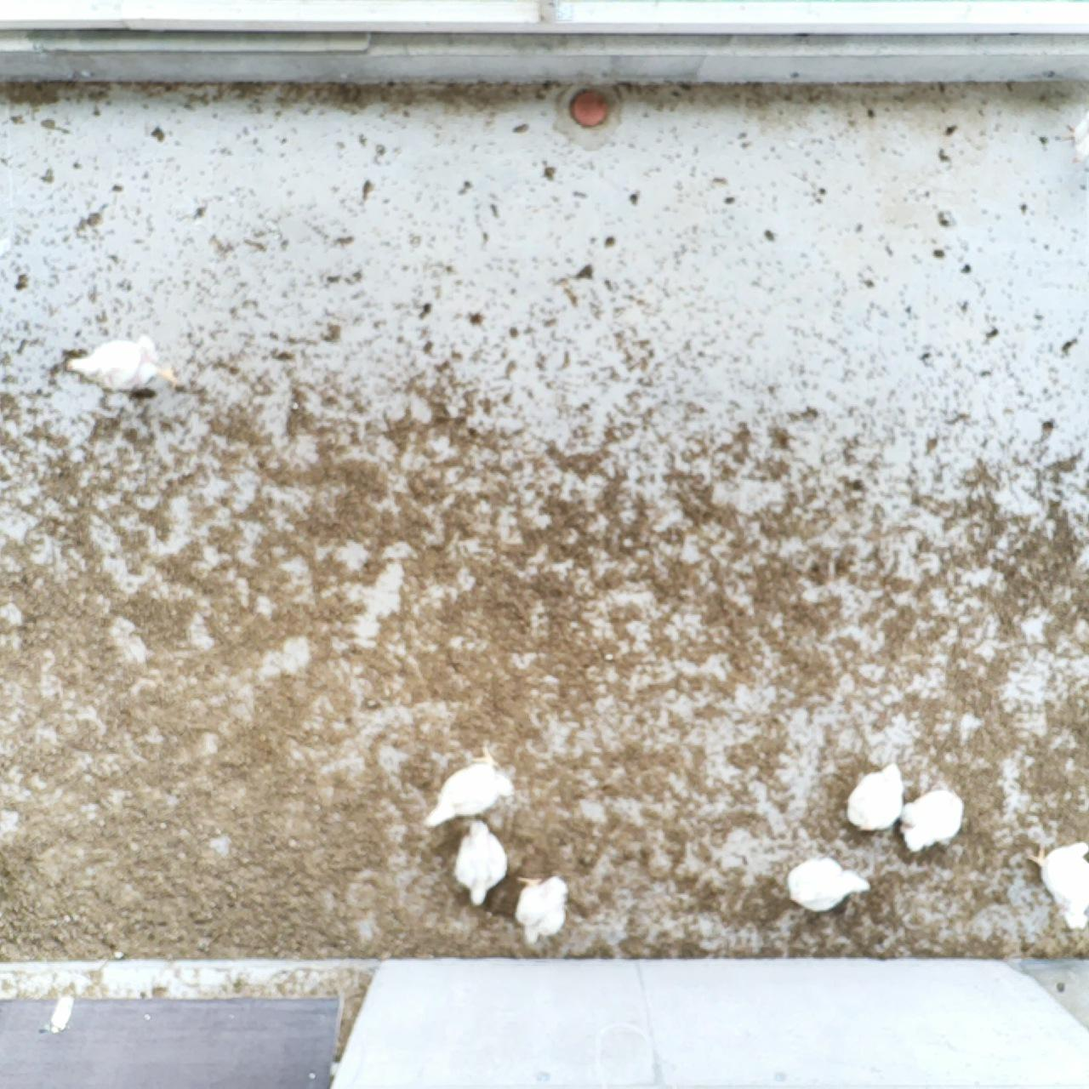chicken: (422, 741, 517, 831), (1017, 834, 1089, 936), (894, 786, 969, 856), (452, 817, 510, 907), (785, 855, 869, 917), (509, 875, 573, 946), (846, 762, 905, 834)
